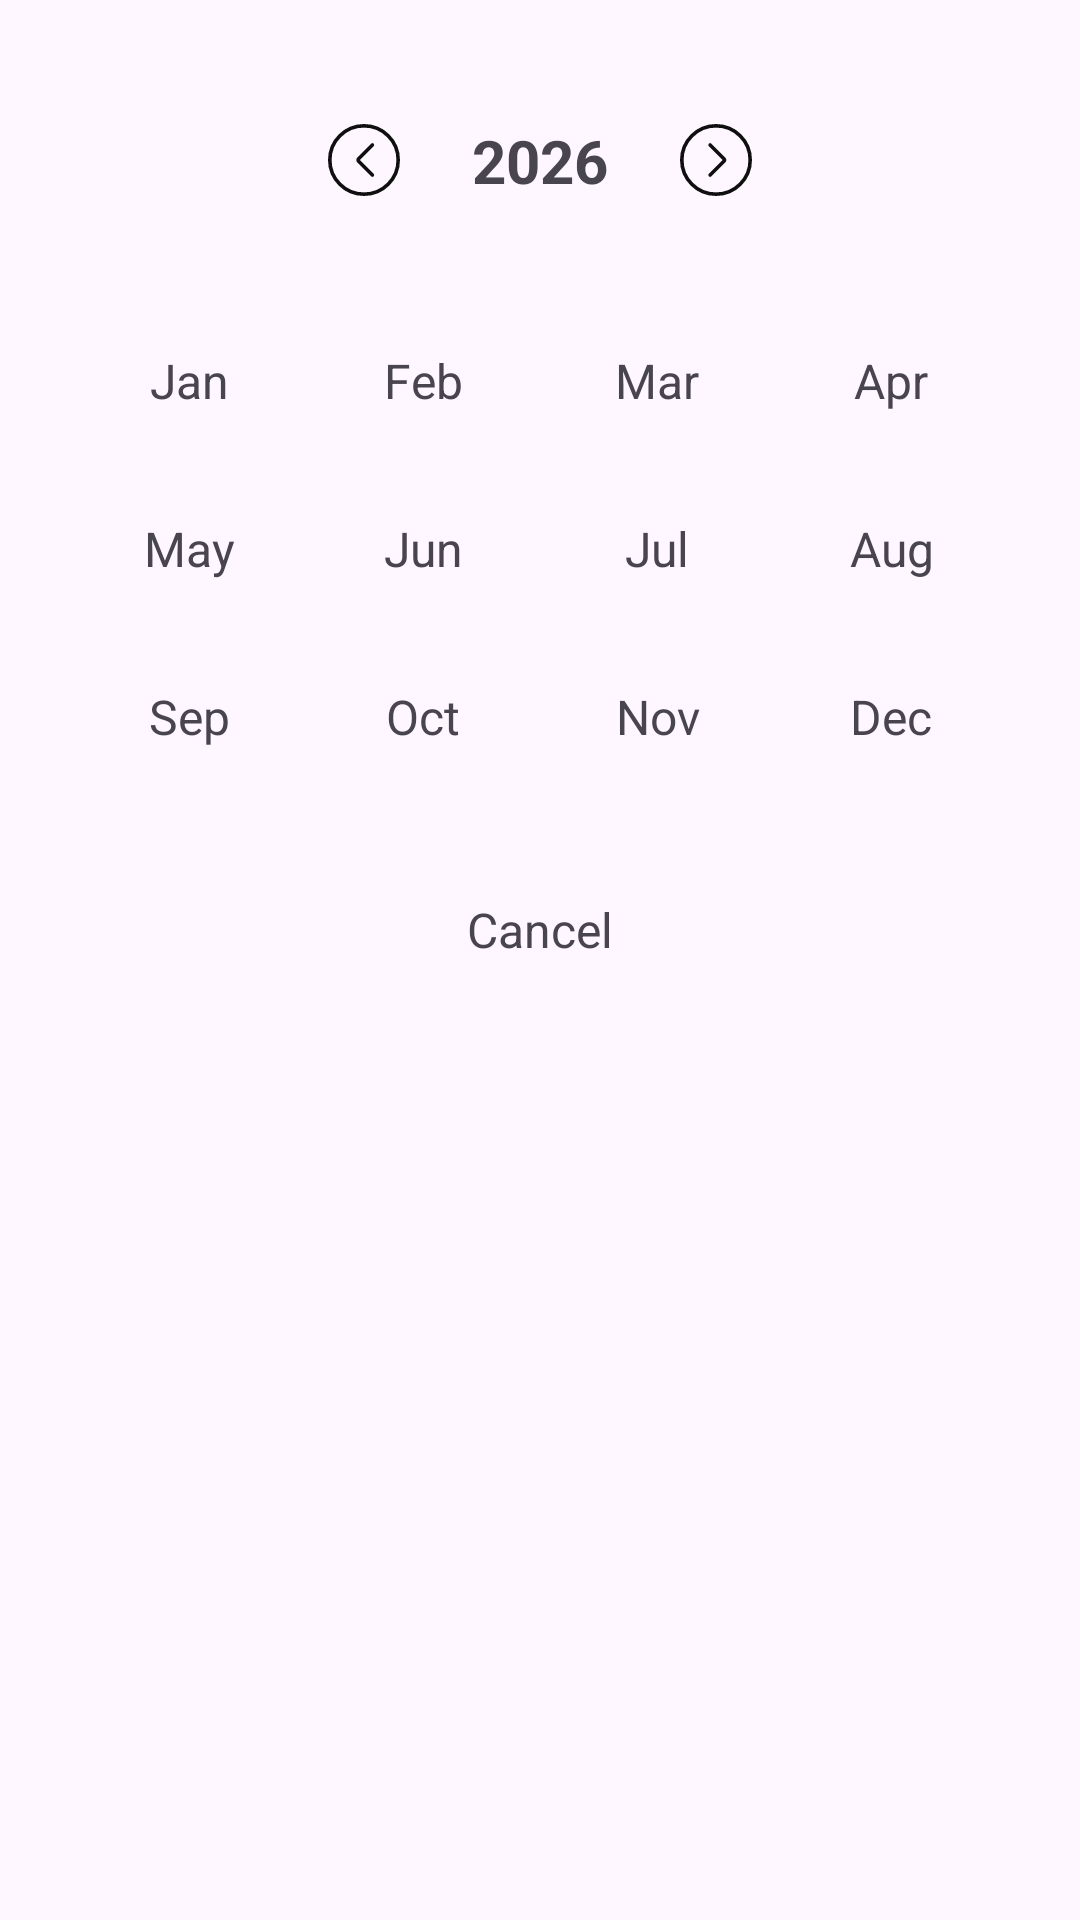

Where icons sit on this 1080×1920 app screen, as (x1, y1, x2, y2):
next: (680, 124, 752, 196)
prev: (328, 124, 400, 196)
